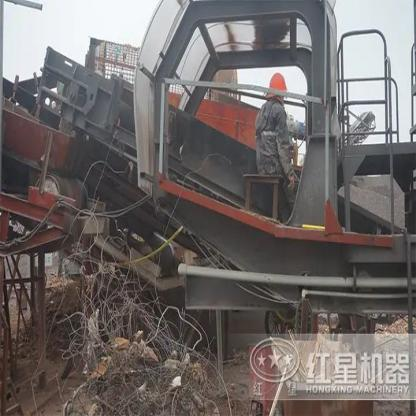rebar: (66, 261, 232, 415), (2, 189, 154, 251)
